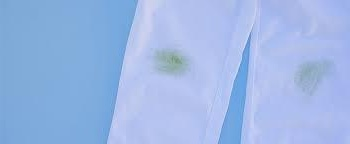earth: (293, 66, 325, 90), (160, 52, 189, 75)
